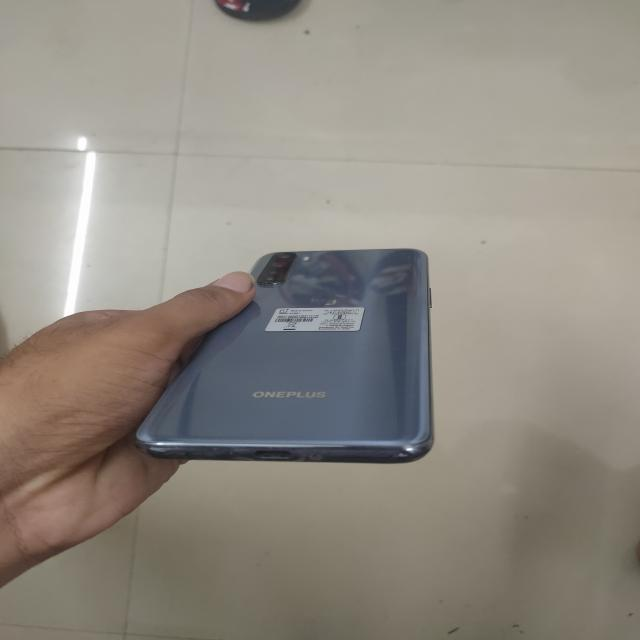Phone: (125, 245, 439, 464)
